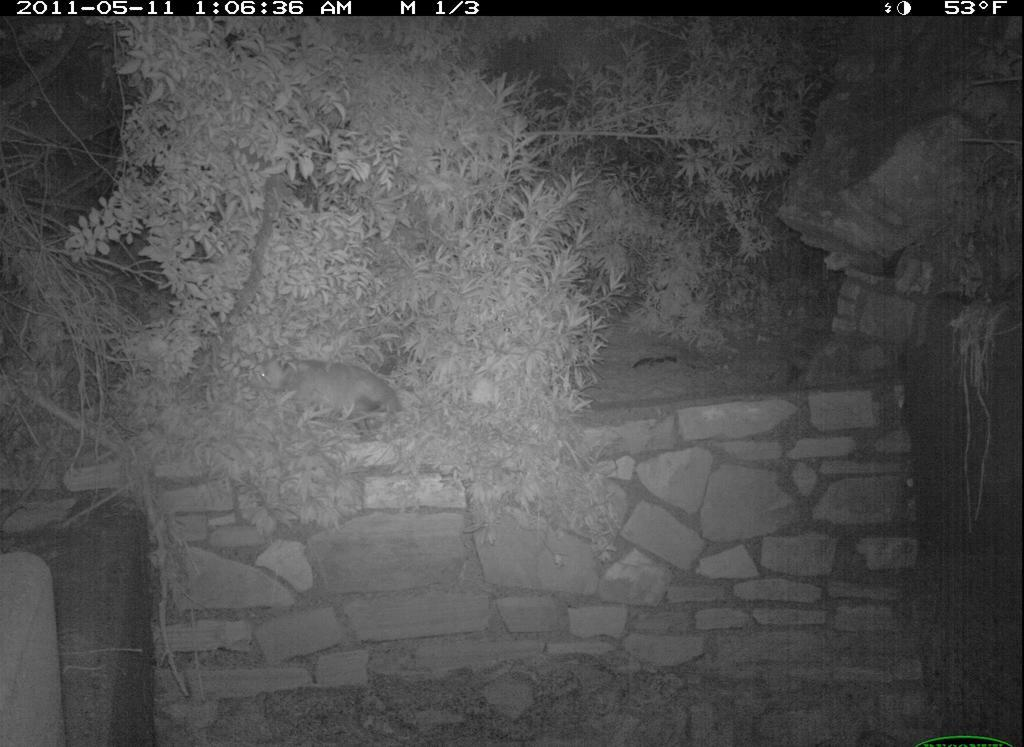opossum: (242, 337, 415, 452)
